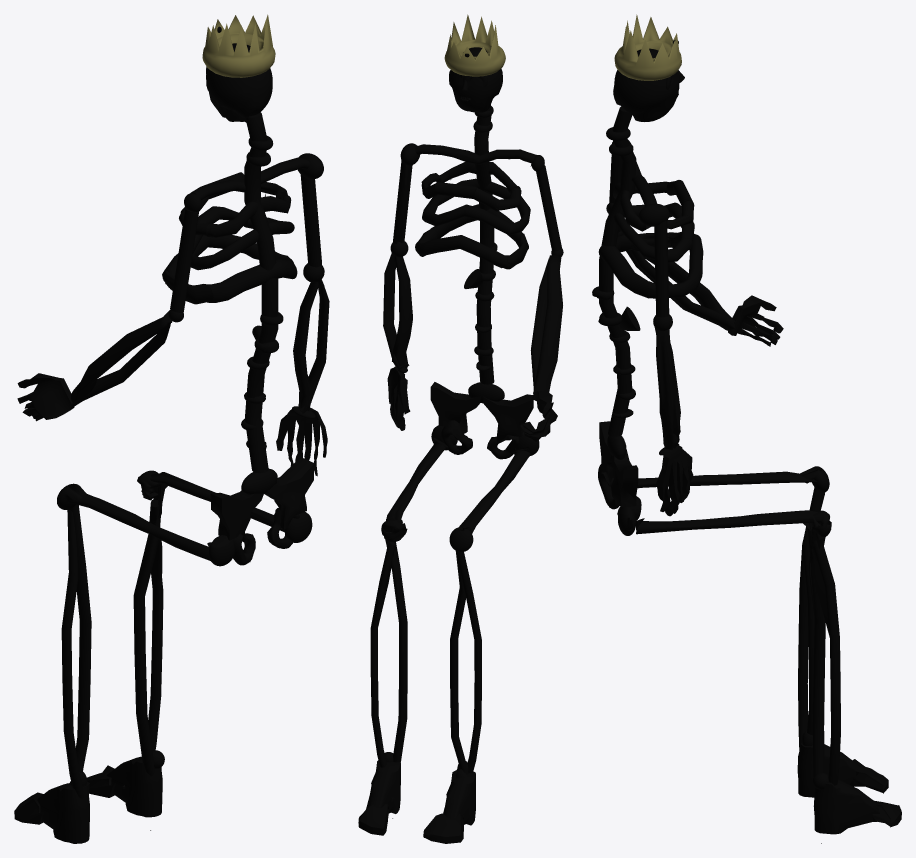
Rendered from skeleton3.fbx.
The picture shows the model from 3 angles, left to right: view 1: azimuth 30°, elevation 25°; view 2: azimuth 150°, elevation 25°; view 3: azimuth 270°, elevation 25°; orthographic projection. The views are drawn at different scales.
Parts seen in each view (by area): view 1: pasted__arrow; view 2: pasted__arrow; view 3: pasted__arrow.
Part boxes in pixels (x1,y1,x2,y2): pasted__arrow: (14, 14, 329, 843); pasted__arrow: (358, 14, 563, 843); pasted__arrow: (592, 14, 901, 843).
Bounding box in the file's own units: 0.7319 × 2.47 × 0.8449.
